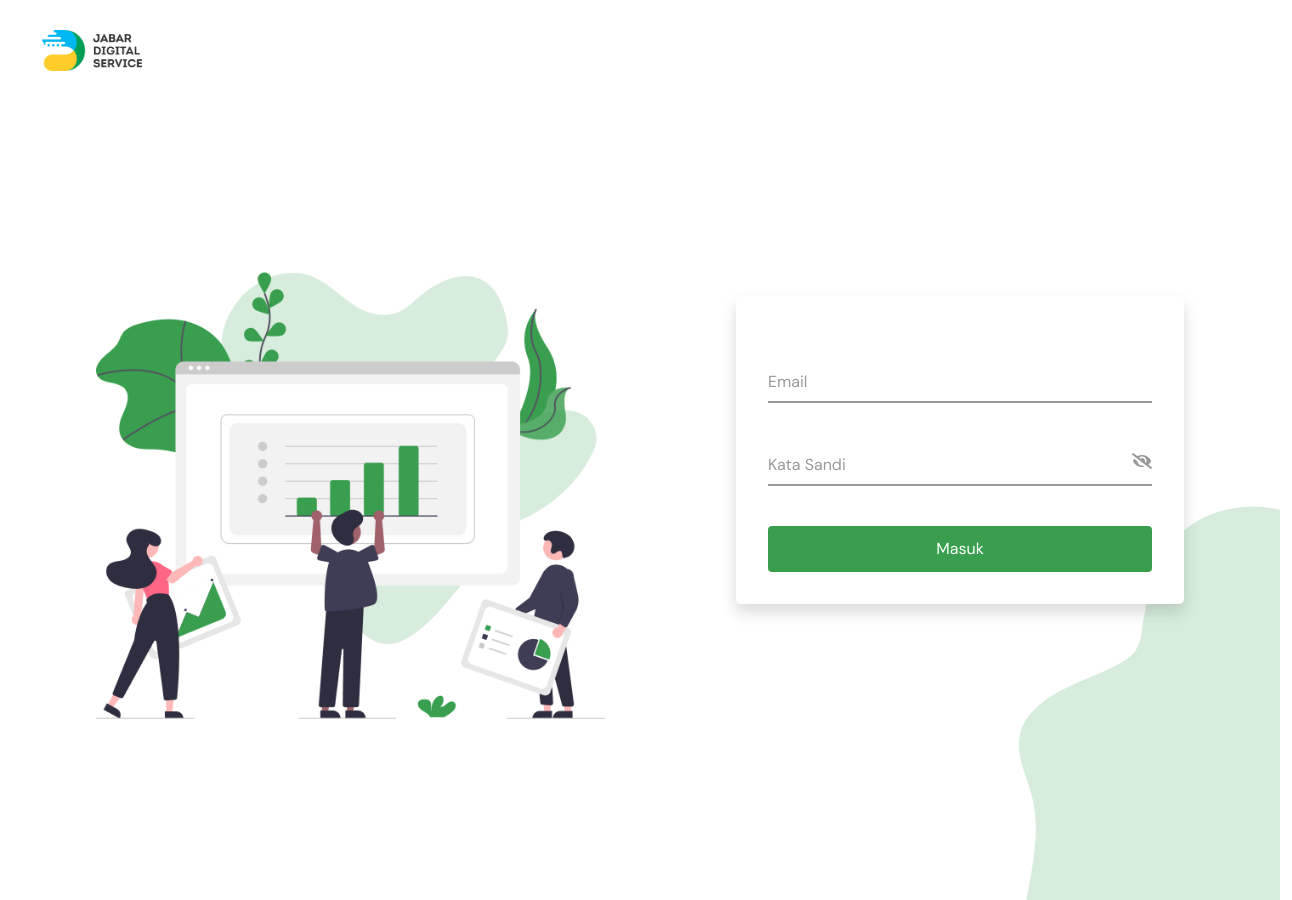
Login Page
This screenshot has width=1292, height=900.
Note: Cek salah format email
In the field with test id "email_input": (960,382) x1=768 y1=360 x2=1152 y2=403, type "sasasaa"
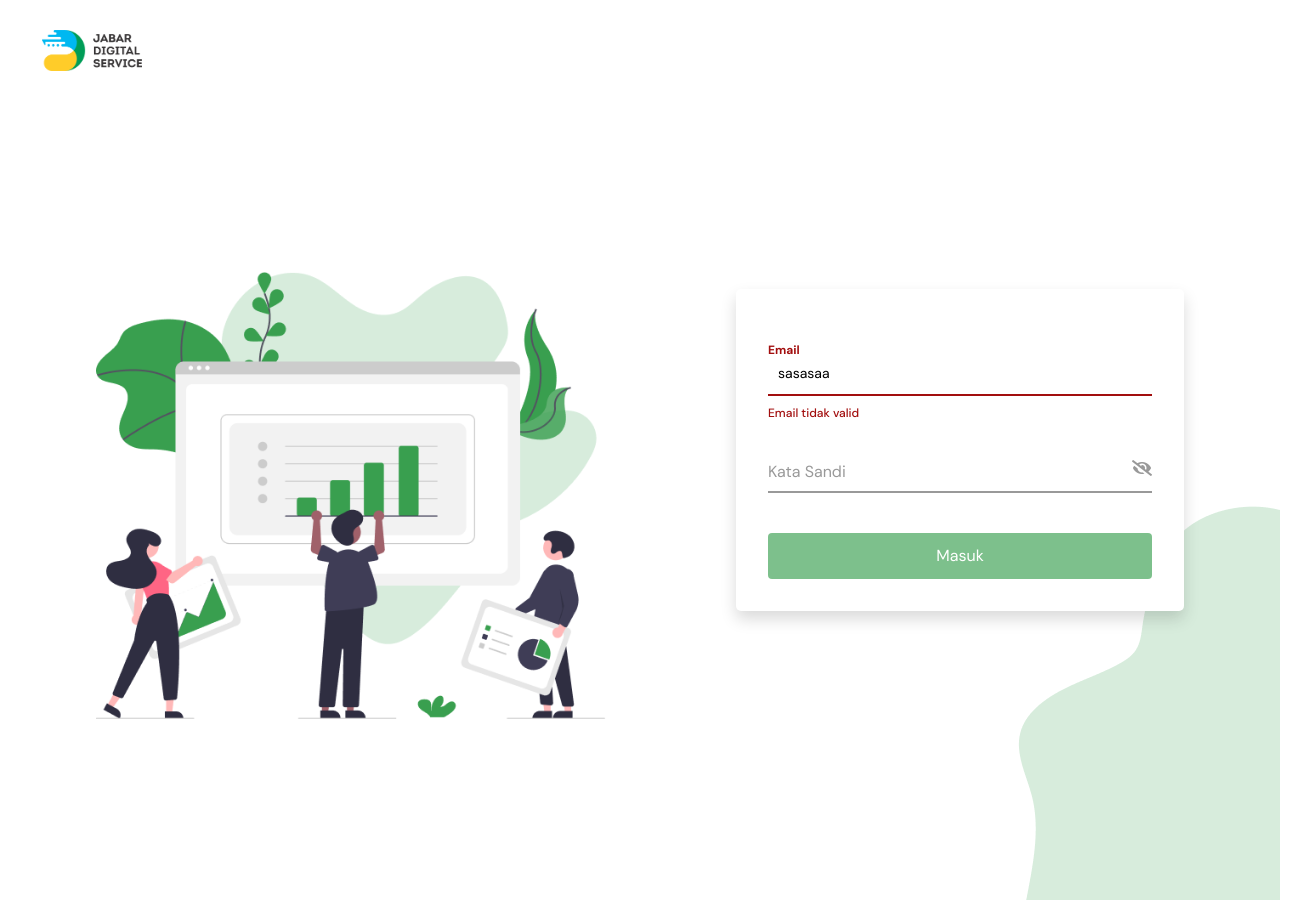
Check: the heading with test id "email_validation_message" reads "Email tidak valid", box x1=768 y1=405 x2=859 y2=421
